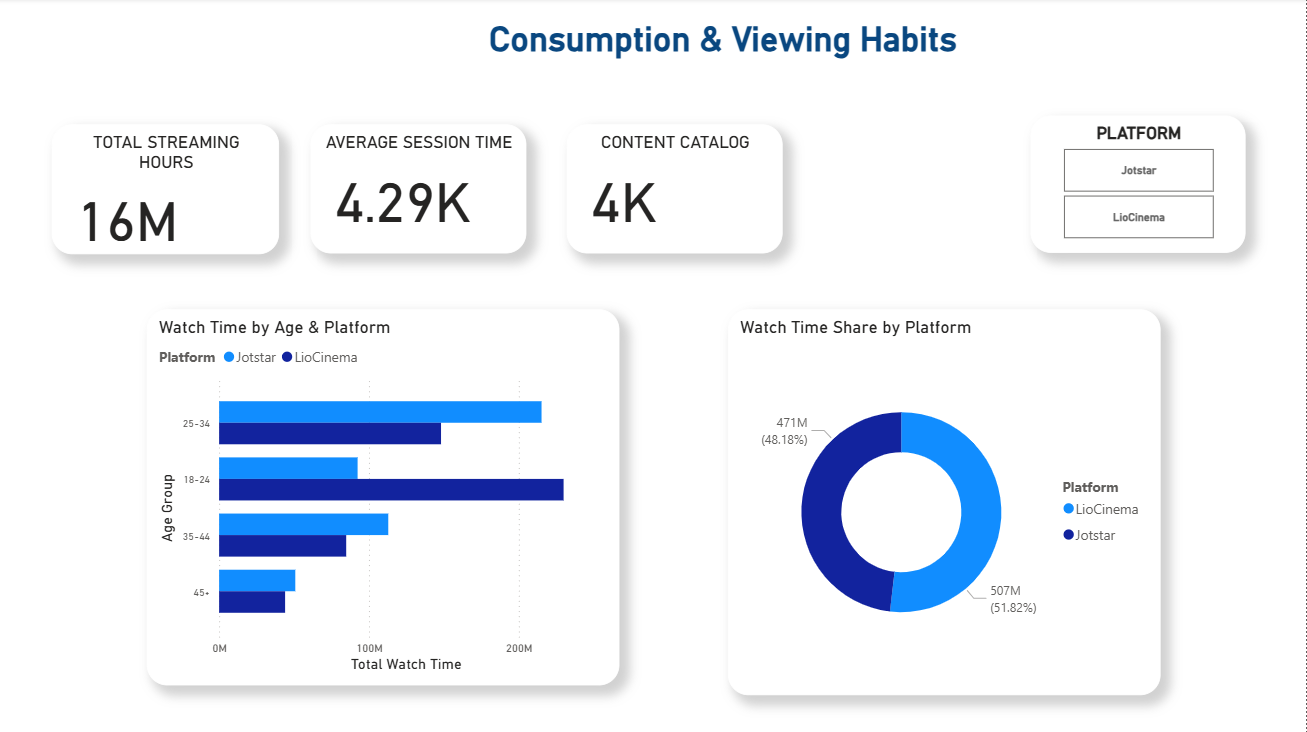

Layout of this report page (visuals, bound fields, positions):
{"tool":"powerbi","page":{"name":"Page 2","canvas":[1280,720],"ordinal":1},"visuals":[{"type":"cardVisual","title":"TOTAL STREAMING HOURS","fields":{"Data":["Table.Total Streaming Hours"]},"box":[79.1,52.7,223.4,126.8],"z":0},{"type":"cardVisual","title":"AVERAGE SESSION TIME","fields":{"Data":["Table.Avg Session Mins"]},"box":[330.1,52.7,210.8,126.5],"z":1000},{"type":"slicer","title":"PLATFORM","fields":{"Values":["Fact_Subscribers.Platform"]},"box":[1031.8,30.1,210.9,135.6],"z":3000},{"type":"cardVisual","title":"CONTENT CATALOG","fields":{"Data":["Table.Content Catalog Size"]},"box":[581.2,52.7,210.8,126.5],"z":4000},{"type":"clusteredBarChart","title":"Watch Time by Age & Platform","fields":{"Category":["Fact_Subscribers.age_group"],"Series":["Fact_Subscribers.Platform"],"Y":["Table.Total Watch Time Mins"]},"box":[144.4,258.6,461.9,367.8],"z":4001},{"type":"donutChart","title":"Watch Time Share by Platform","fields":{"Category":["Fact_Consumption.Platform"],"Y":["Table.Total Watch Time Mins"]},"box":[746.9,248.5,423,377.8],"z":4002}]}

Visuals, with their boxes in screenshot pixels (x1, y1, x2, y2), scaled from the page's 1280x720 canvas onto the 1307x732 screenshot:
"TOTAL STREAMING HOURS" cardVisual: Rect(81, 54, 309, 182)
"AVERAGE SESSION TIME" cardVisual: Rect(337, 54, 552, 182)
"PLATFORM" slicer: Rect(1054, 31, 1269, 168)
"CONTENT CATALOG" cardVisual: Rect(593, 54, 809, 182)
"Watch Time by Age & Platform" clusteredBarChart: Rect(147, 263, 619, 637)
"Watch Time Share by Platform" donutChart: Rect(763, 253, 1195, 637)
